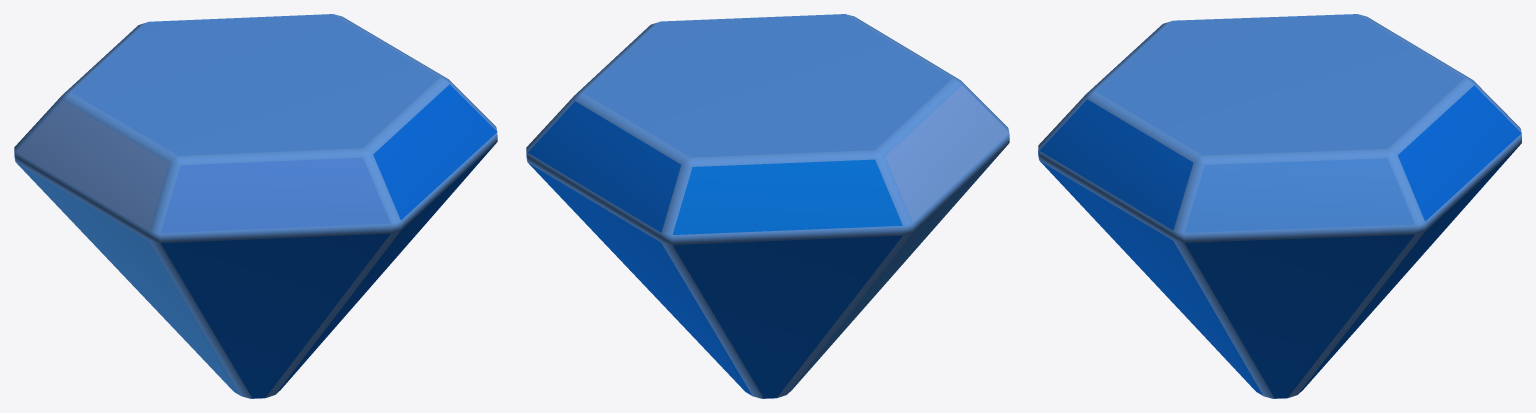
Rendered from Diamondl.fbx.
The picture shows the model from 3 angles, left to right: view 1: azimuth 30°, elevation 25°; view 2: azimuth 150°, elevation 25°; view 3: azimuth 270°, elevation 25°; orthographic projection.
Parts seen in each view (by area): view 1: Cylinder.001; view 2: Cylinder.001; view 3: Cylinder.001.
Part boxes in pixels (x1,y1,x2,y2): Cylinder.001: [14, 14, 497, 398]; Cylinder.001: [526, 14, 1009, 398]; Cylinder.001: [1038, 14, 1521, 398].
Size of the model in its own units: 32.42 by 24.8 by 35.19.
